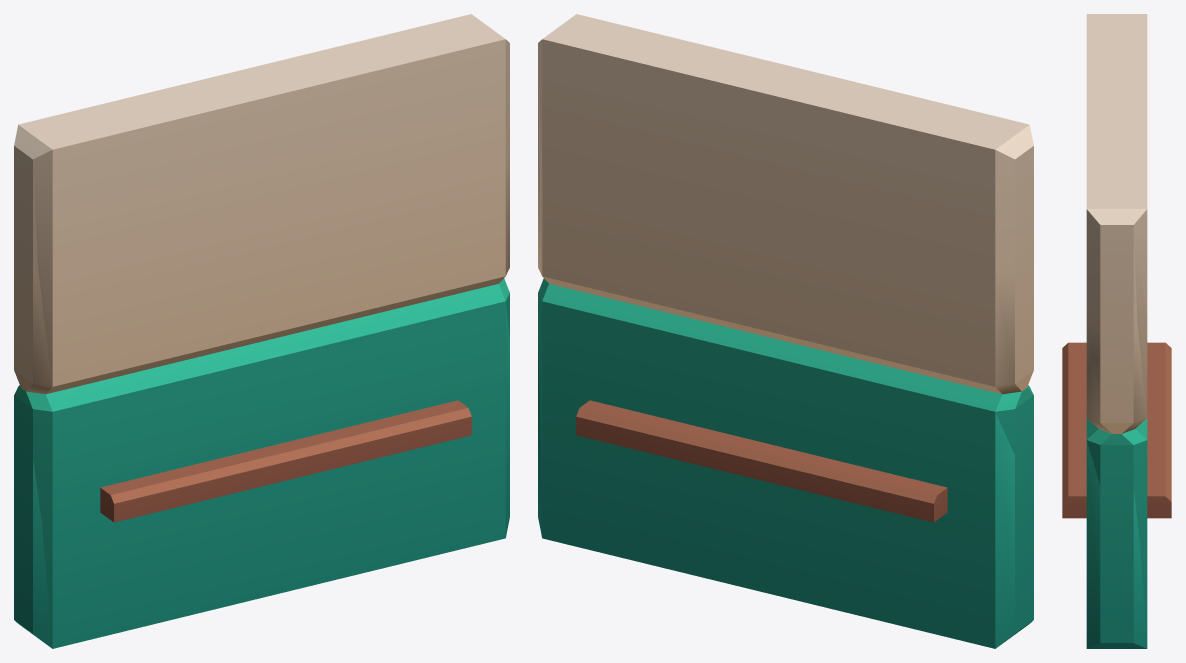
File: wal_doorwayl.glb
3 renders of one model, left to right at view 1: azimuth 30°, elevation 25°; view 2: azimuth 150°, elevation 25°; view 3: azimuth 270°, elevation 25°, orthographic. The views are drawn at different scales.
Visible parts, largest first — view 1: wall, wall_doorway, wall_orderwindow; view 2: wall, wall_doorway, wall_orderwindow; view 3: wall, wall_orderwindow, wall_doorway.
Part boxes in pixels (<box>): wall: <box>14,14,509,648</box>; wall_doorway: <box>14,14,509,648</box>; wall_orderwindow: <box>14,15,509,648</box>; wall: <box>538,14,1033,648</box>; wall_doorway: <box>538,14,1033,648</box>; wall_orderwindow: <box>538,14,1033,647</box>; wall: <box>1086,14,1147,648</box>; wall_orderwindow: <box>1062,14,1171,648</box>; wall_doorway: <box>1086,14,1147,644</box>.
Size of the model in its own units: 4 by 4 by 0.9.
3 materials, 3 textured.
